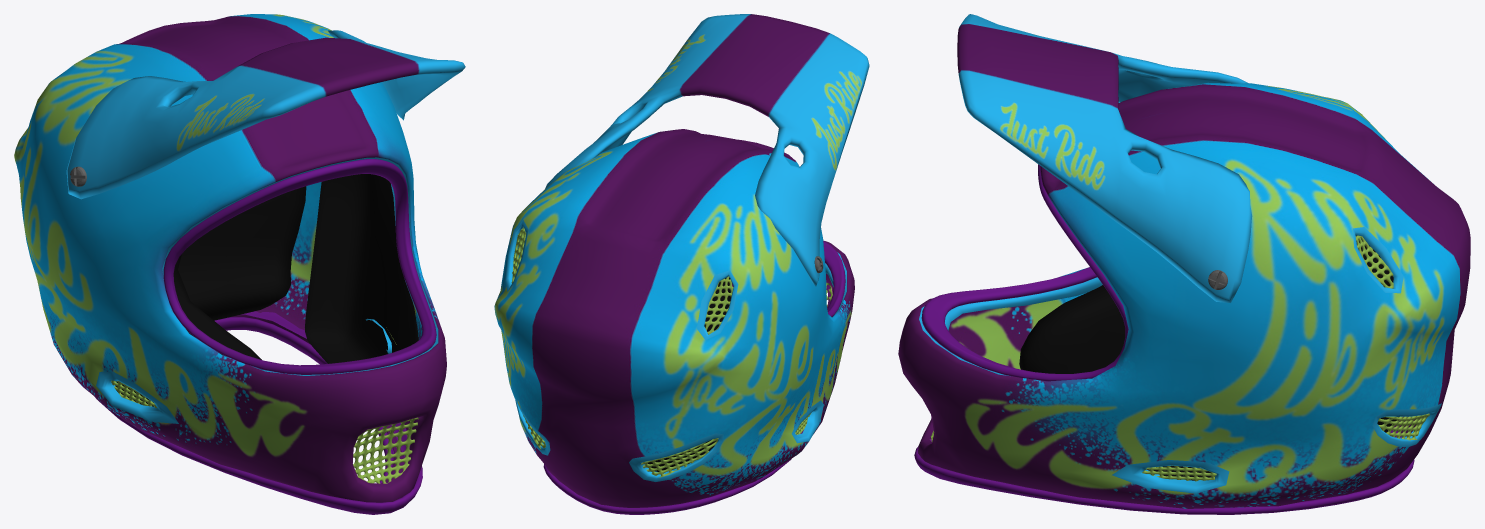
File: full_face_mtb_helmet.glb
3 renders of one model, left to right at view 1: azimuth 30°, elevation 25°; view 2: azimuth 150°, elevation 25°; view 3: azimuth 270°, elevation 25°, orthographic. The views are drawn at different scales.
Parts seen in each view (by area): view 1: main1, inside, main2, rubber, vents; view 2: main1, main2, rubber, vents, inside; view 3: main1, main2, rubber, inside, vents.
Boxes of the visible parts, <box> form: main1: <box>14,14,446,502</box>; inside: <box>115,174,418,406</box>; main2: <box>66,30,465,199</box>; rubber: <box>94,159,436,514</box>; vents: <box>111,327,418,483</box>; main1: <box>494,129,854,507</box>; main2: <box>545,14,869,286</box>; rubber: <box>543,241,845,514</box>; vents: <box>511,227,832,477</box>; inside: <box>647,277,730,471</box>; main1: <box>898,82,1470,508</box>; main2: <box>957,14,1252,302</box>; rubber: <box>914,164,1414,514</box>; inside: <box>1019,239,1399,480</box>; vents: <box>931,235,1429,481</box>.
Size of the model in its own units: 0.4852 by 0.592 by 0.7236.
6 materials, 2 textured.
